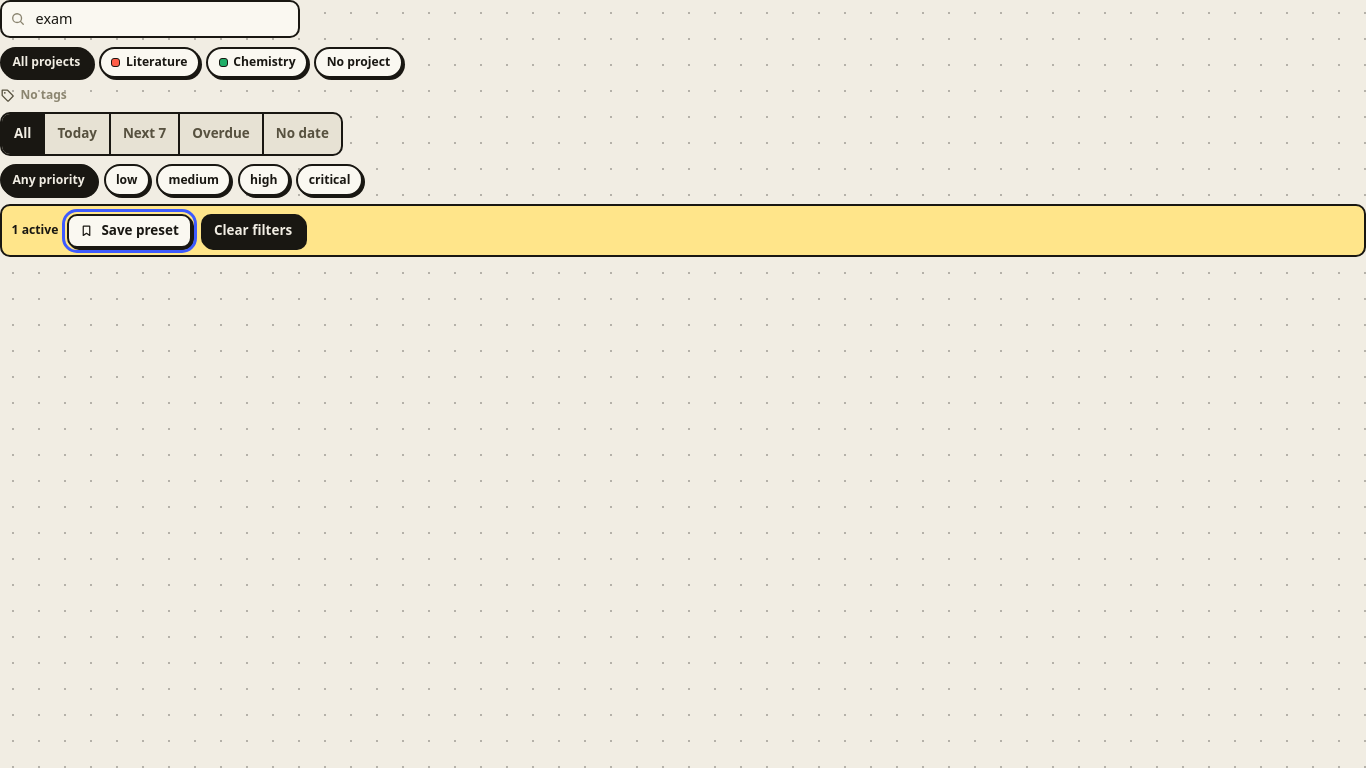
Test: Feature 15 Adversarial: FilterBar modal preset saving, validation, dismissal, focus, and mobile row › focus restoration investigation: captures empirical focus behavior on modal dismissal
This screenshot has width=1366, height=768.
Step 1. Click the button "Save preset" → (130,230), box [67, 214, 192, 248]
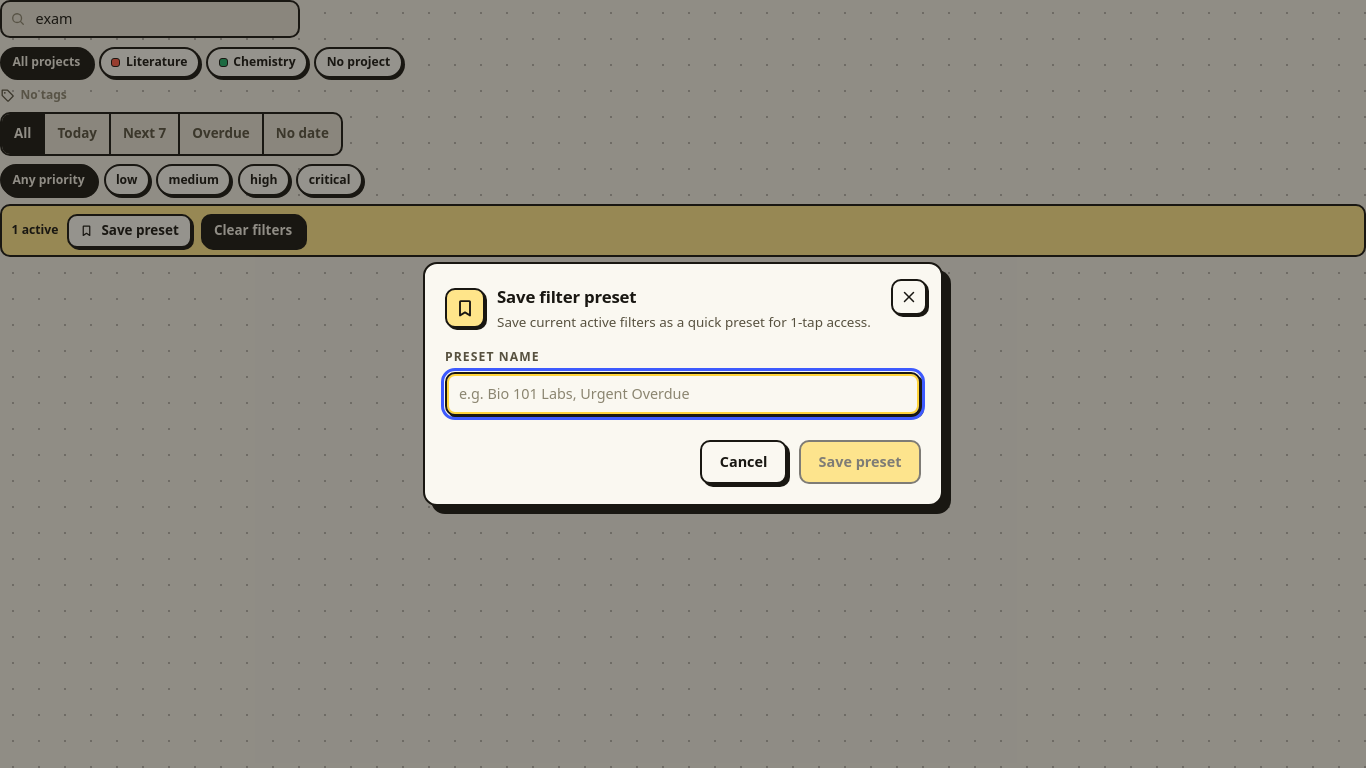
Result: the dialog "Save filter preset" is shown at [423, 262, 943, 506]
// Cancel modal
Step 2. Click the button "Cancel" → (744,462), box [700, 440, 787, 484]
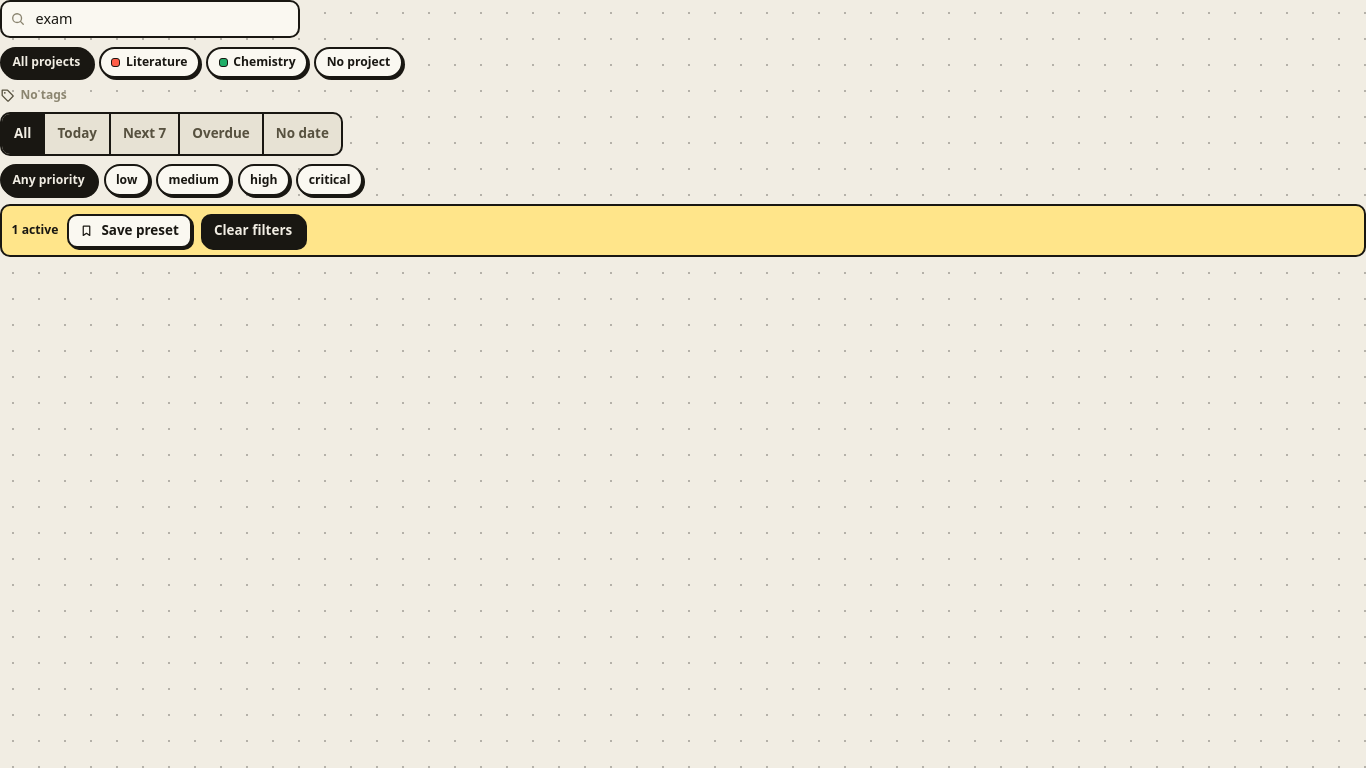
Result: the dialog is gone
